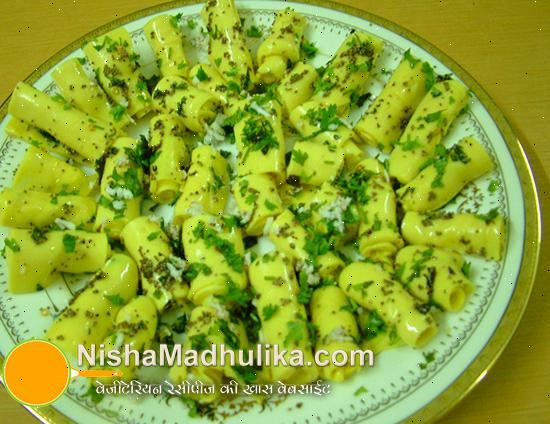khandvi: (0, 1, 550, 333)
